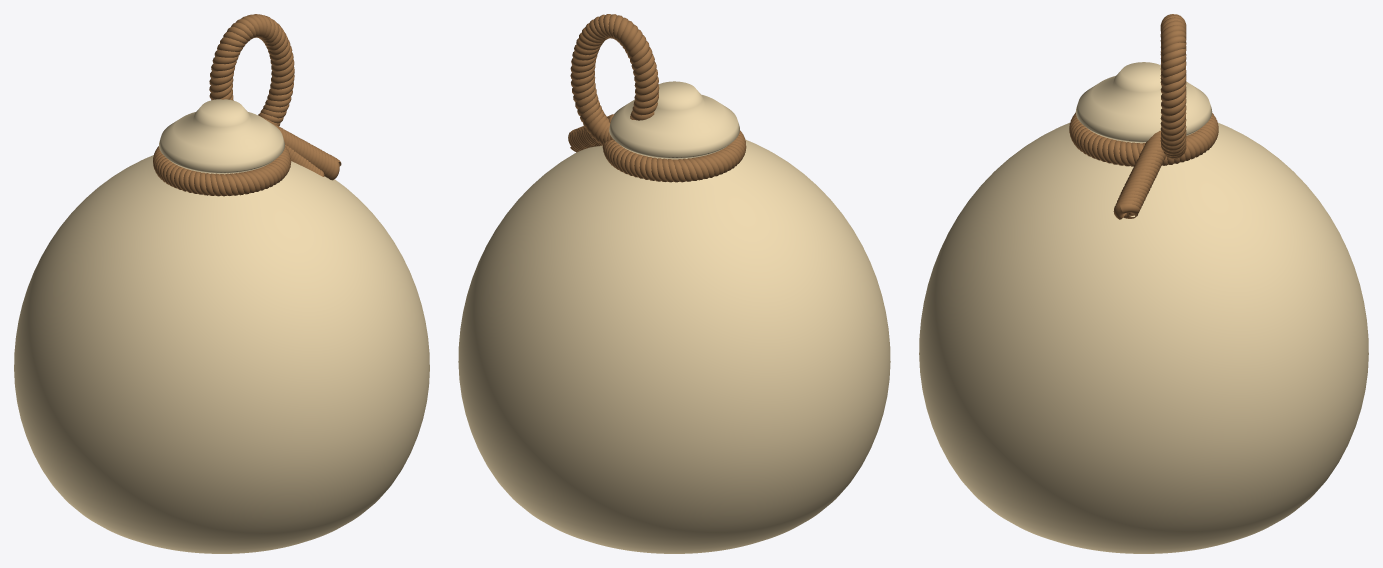
File: GourdAsset.fbx
3 renders of one model, left to right at view 1: azimuth 30°, elevation 25°; view 2: azimuth 150°, elevation 25°; view 3: azimuth 270°, elevation 25°, orthographic. The views are drawn at different scales.
Visible parts, largest first — view 1: Body, Lid, HandleLoop_2, HandleLoop_0, HandleLoop_1, NeckRope_0, NeckRope_2, NeckRope_1, RopeTail1_2; view 2: Body, Lid, HandleLoop_0, HandleLoop_1, HandleLoop_2, NeckRope_2, NeckRope_0, NeckRope_1; view 3: Body, Lid, HandleLoop_0, HandleLoop_2, HandleLoop_1, NeckRope_2, NeckRope_0, NeckRope_1, RopeTail1_1, RopeTail1_2, RopeTail1_0.
Part boxes in pixels (x1,y1,x2,y2): Body: (14,155,429,553); Lid: (159,99,284,173); HandleLoop_2: (209,14,294,123); HandleLoop_0: (209,14,294,125); HandleLoop_1: (209,14,294,118); NeckRope_0: (153,147,291,196); NeckRope_2: (153,146,290,196); NeckRope_1: (153,146,290,195); RopeTail1_2: (269,121,339,180); Body: (458,139,890,553); Lid: (609,81,739,158); HandleLoop_0: (571,14,659,143); HandleLoop_1: (570,14,658,145); HandleLoop_2: (570,14,658,143); NeckRope_2: (603,131,746,182); NeckRope_0: (602,133,745,182); NeckRope_1: (604,130,745,182); Body: (919,122,1368,553); Lid: (1075,62,1212,142); HandleLoop_0: (1160,15,1186,159); HandleLoop_2: (1160,14,1186,158); HandleLoop_1: (1160,14,1186,156); NeckRope_2: (1069,112,1218,166); NeckRope_0: (1069,113,1218,166); NeckRope_1: (1069,114,1218,165); RopeTail1_1: (1117,137,1164,215); RopeTail1_2: (1113,134,1164,219); RopeTail1_0: (1115,130,1165,218).
Size of the model in its own units: 198 by 251 by 198.
